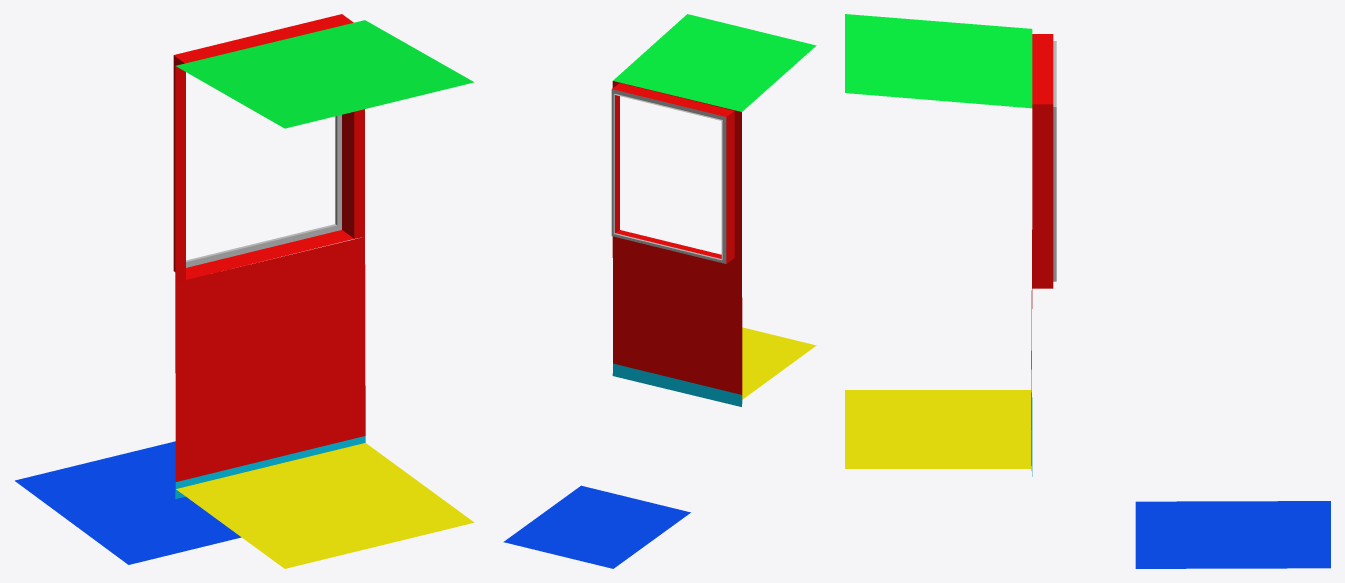
The model's file is fenetrehaute.fbx.
The picture shows the model from 3 angles, left to right: view 1: azimuth 30°, elevation 25°; view 2: azimuth 150°, elevation 25°; view 3: azimuth 270°, elevation 25°; orthographic projection. The views are drawn at different scales.
Visible parts, largest first — view 1: SM_Window_B, SM_Glass_B; view 2: SM_Window_B, SM_Glass_B; view 3: SM_Window_B, SM_Glass_B.
Part boxes in pixels (x1,y1,x2,y2): SM_Window_B: [173, 14, 474, 568]; SM_Glass_B: [15, 441, 241, 564]; SM_Window_B: [611, 14, 816, 406]; SM_Glass_B: [503, 485, 690, 568]; SM_Window_B: [845, 14, 1056, 476]; SM_Glass_B: [1135, 501, 1330, 568].
Bounding box in the file's own units: 200 × 568 × 519.
